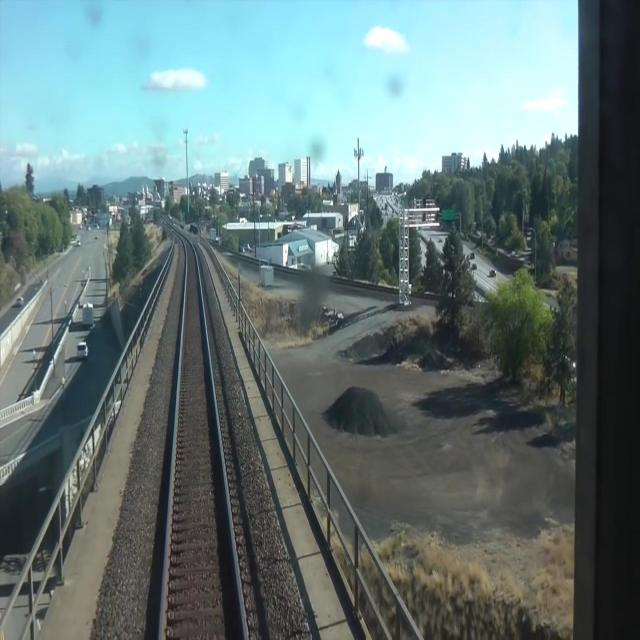rail-track: (161, 217, 243, 639)
